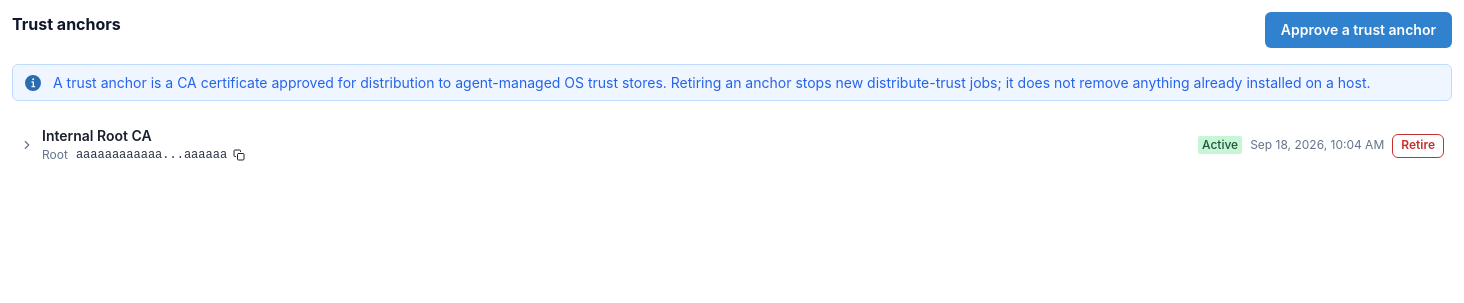
TrustAnchorsPanel › does not show Needs attention for a row still actively retrying
Click the text "Internal Root CA": click(97, 136) x1=42 y1=127 x2=152 y2=144
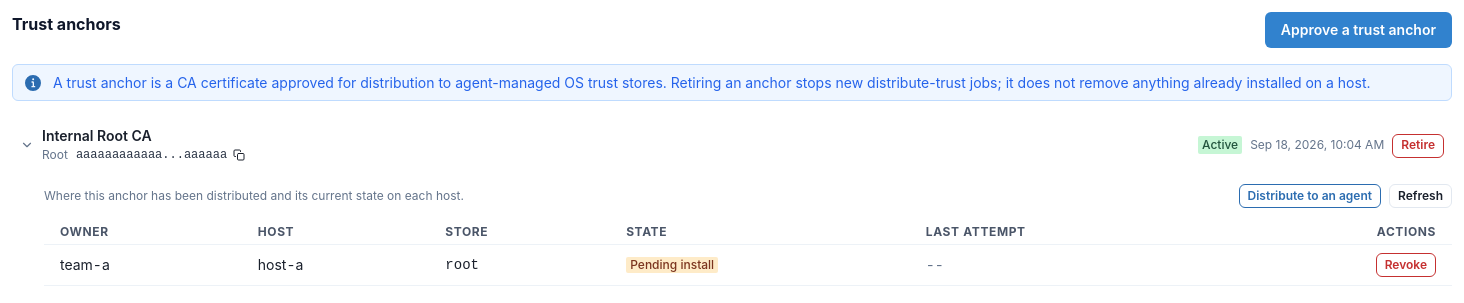
Result: the text "Pending install" is shown at x1=626 y1=257 x2=718 y2=273
